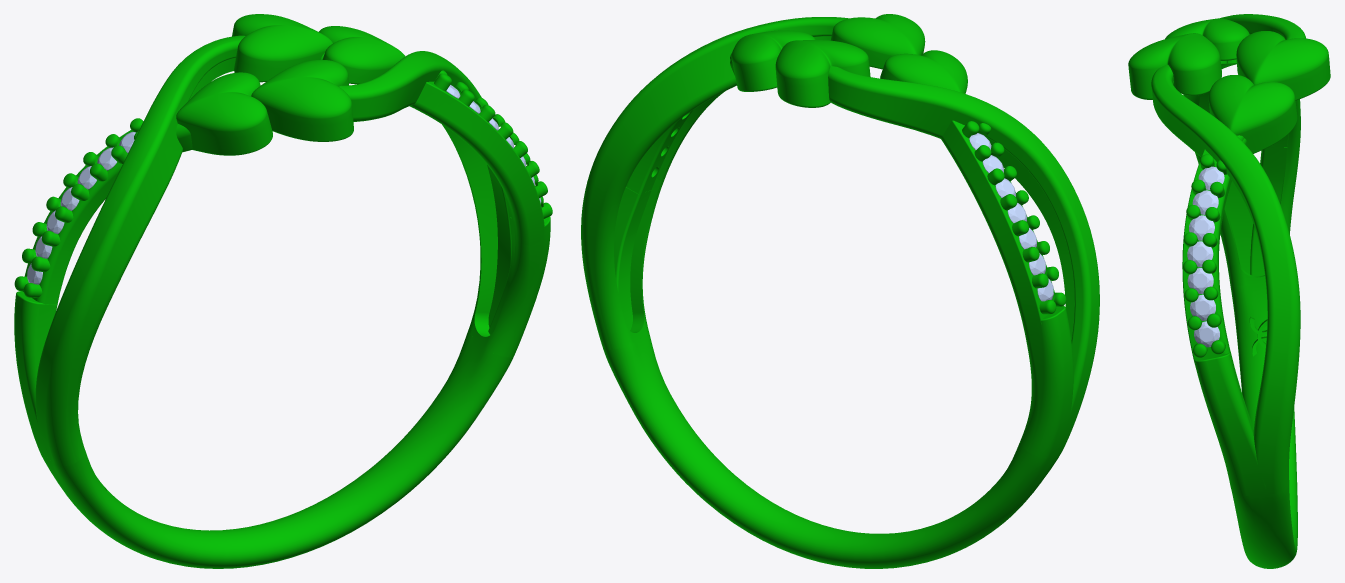
The picture shows the model from 3 angles, left to right: view 1: azimuth 30°, elevation 25°; view 2: azimuth 150°, elevation 25°; view 3: azimuth 270°, elevation 25°; orthographic projection. The views are drawn at different scales.
Visible parts, largest first — view 1: b.3dm; view 2: b.3dm; view 3: b.3dm.
Boxes of the visible parts, x1,y1,x2,y2 form: b.3dm: (14,14,552,568); b.3dm: (581,14,1099,568); b.3dm: (1128,14,1330,568).
Size of the model in its own units: 2.71 by 2.76 by 1.
